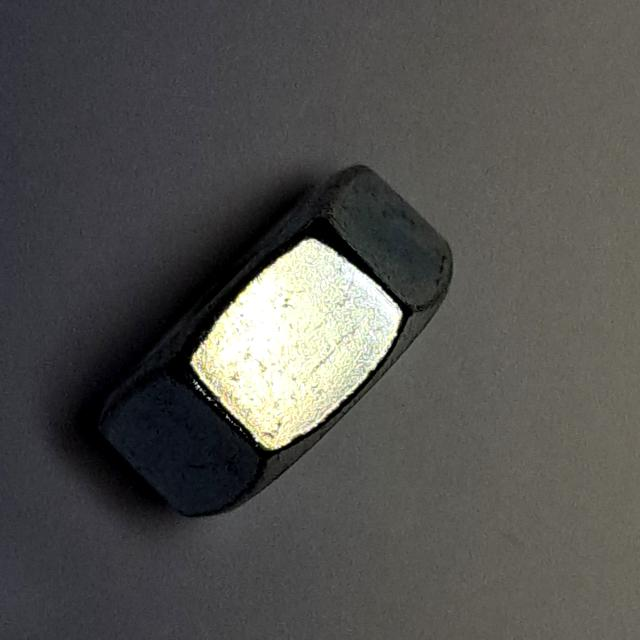Side_Excellent: (77, 147, 482, 531)
